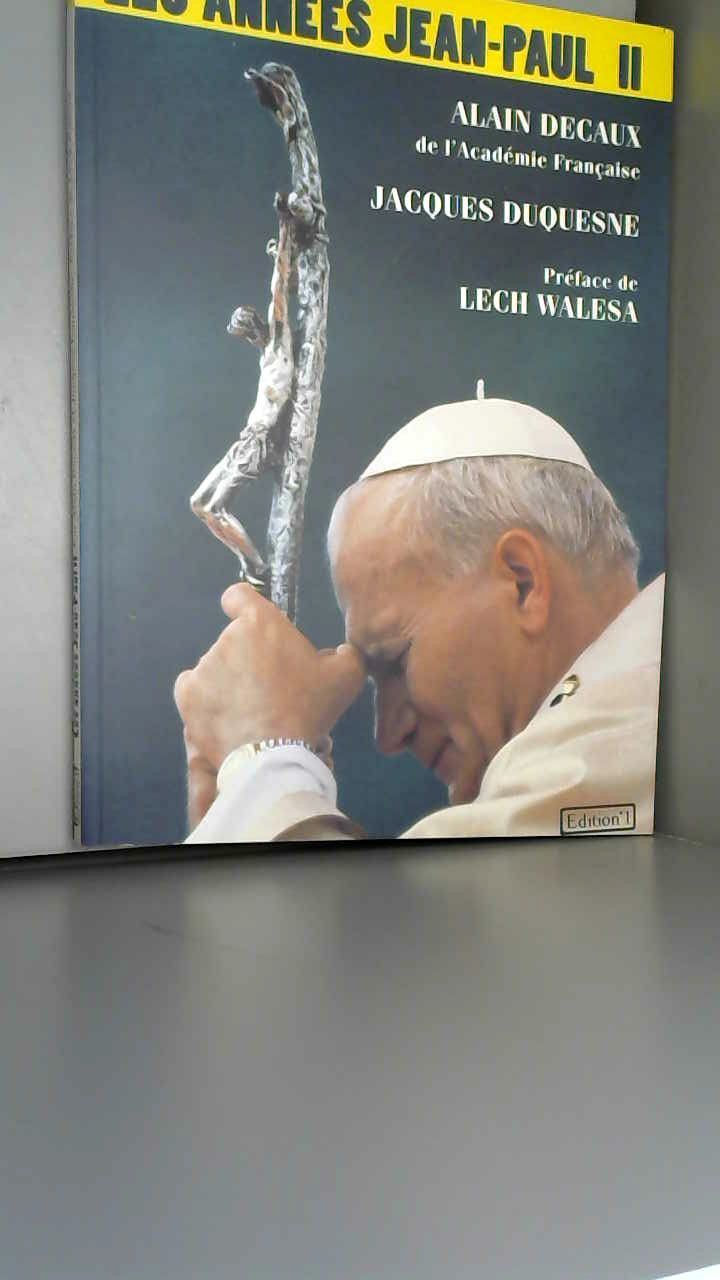book: (45, 0, 720, 893)
